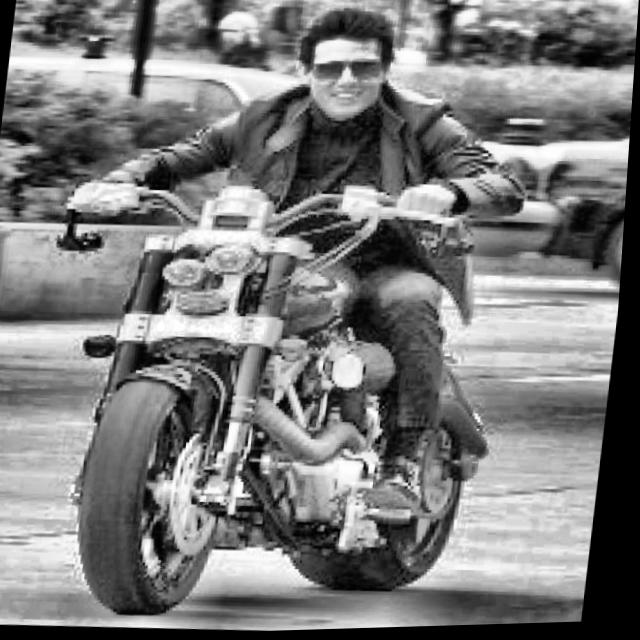motorcycle: (11, 154, 585, 639)
